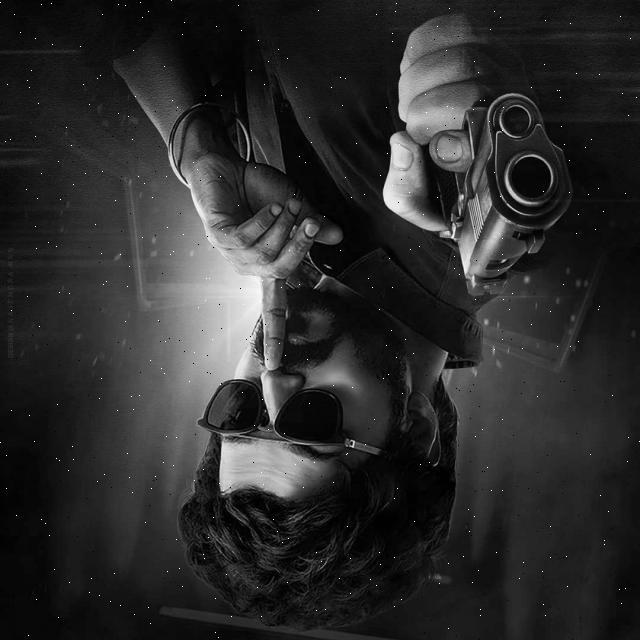gun: (397, 71, 589, 315)
